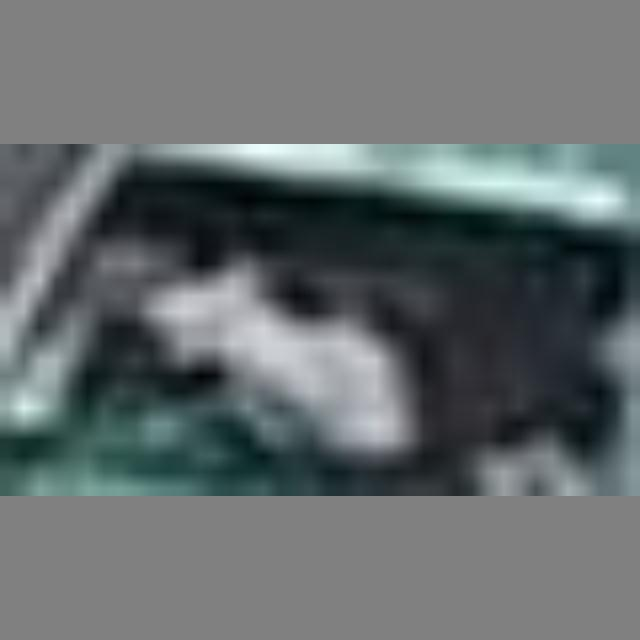tidak-pakai: (128, 256, 400, 448)
